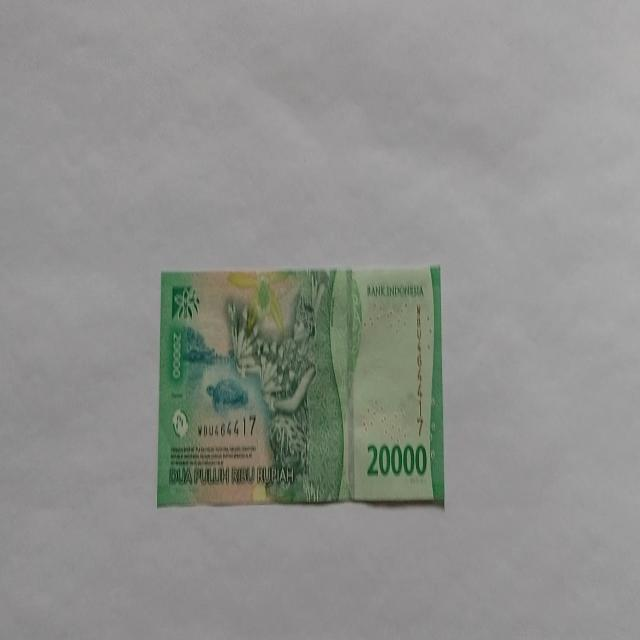dua puluh ribu rupiah: (157, 264, 445, 508), (225, 268, 358, 504)
